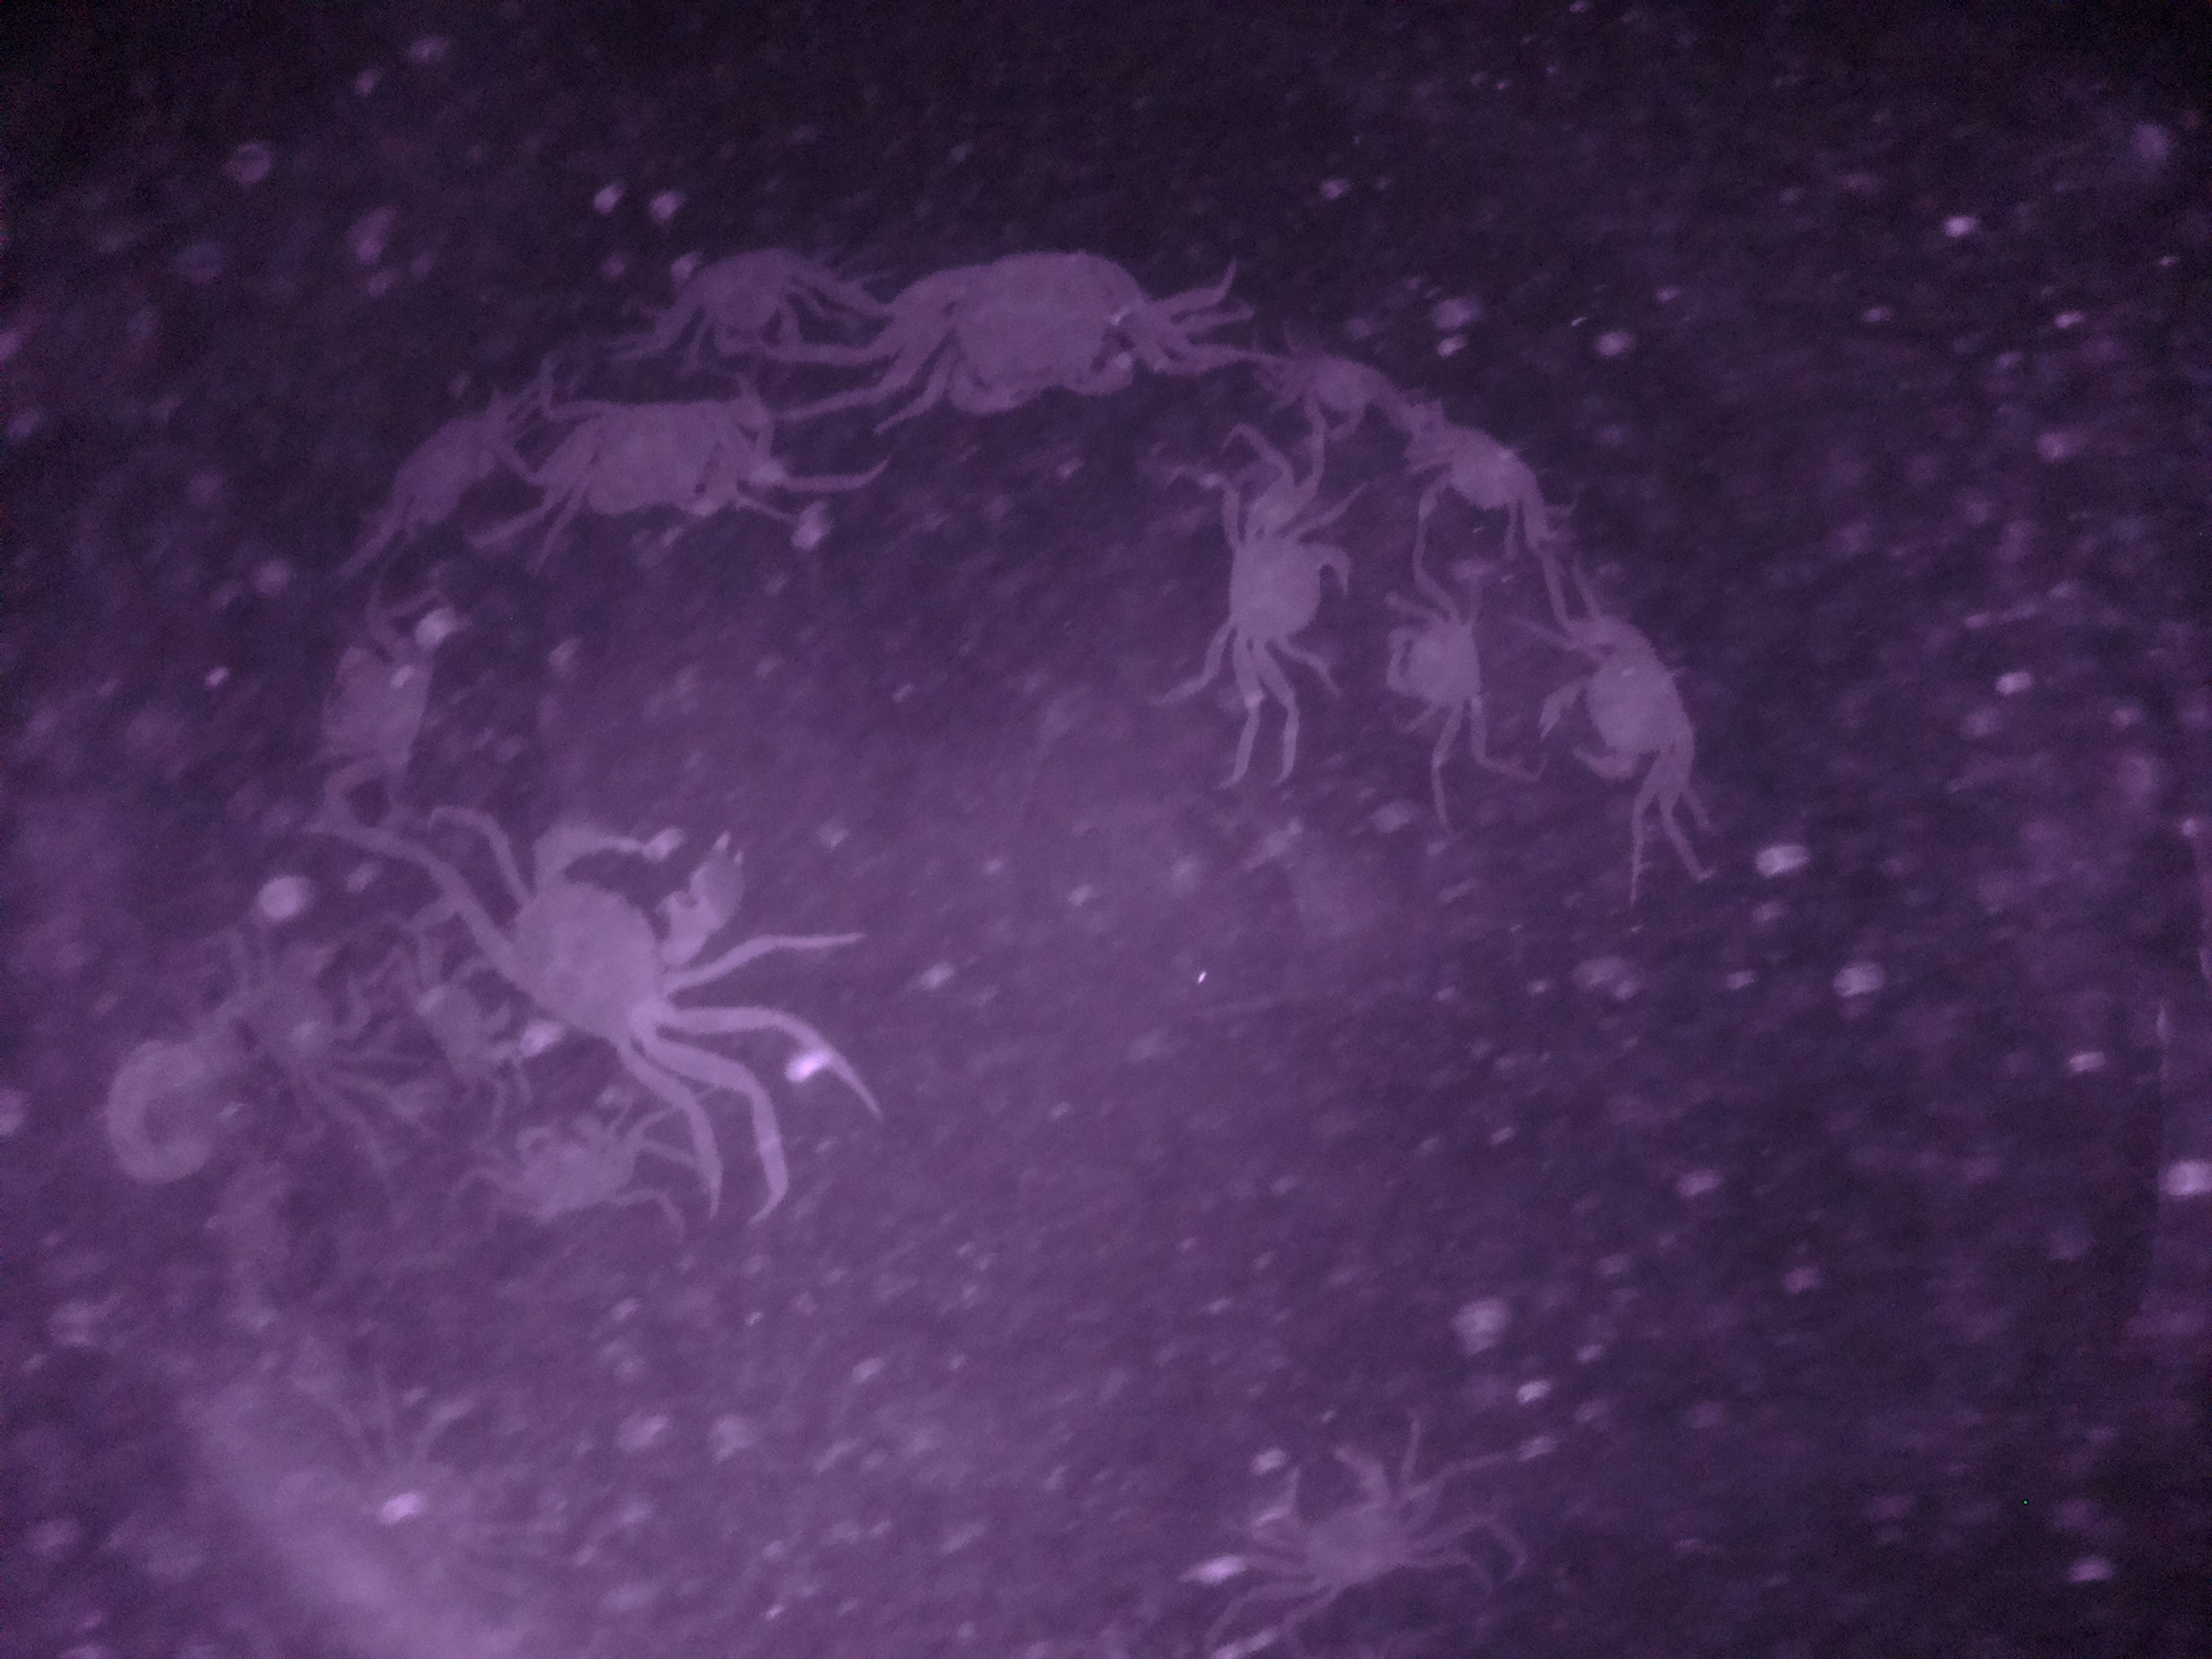Crab: (869, 225, 1170, 429), (1527, 605, 1735, 814), (1235, 1424, 1456, 1619), (524, 376, 773, 538), (1191, 483, 1352, 692), (1390, 399, 1564, 554), (1362, 579, 1494, 748), (401, 945, 540, 1098)
